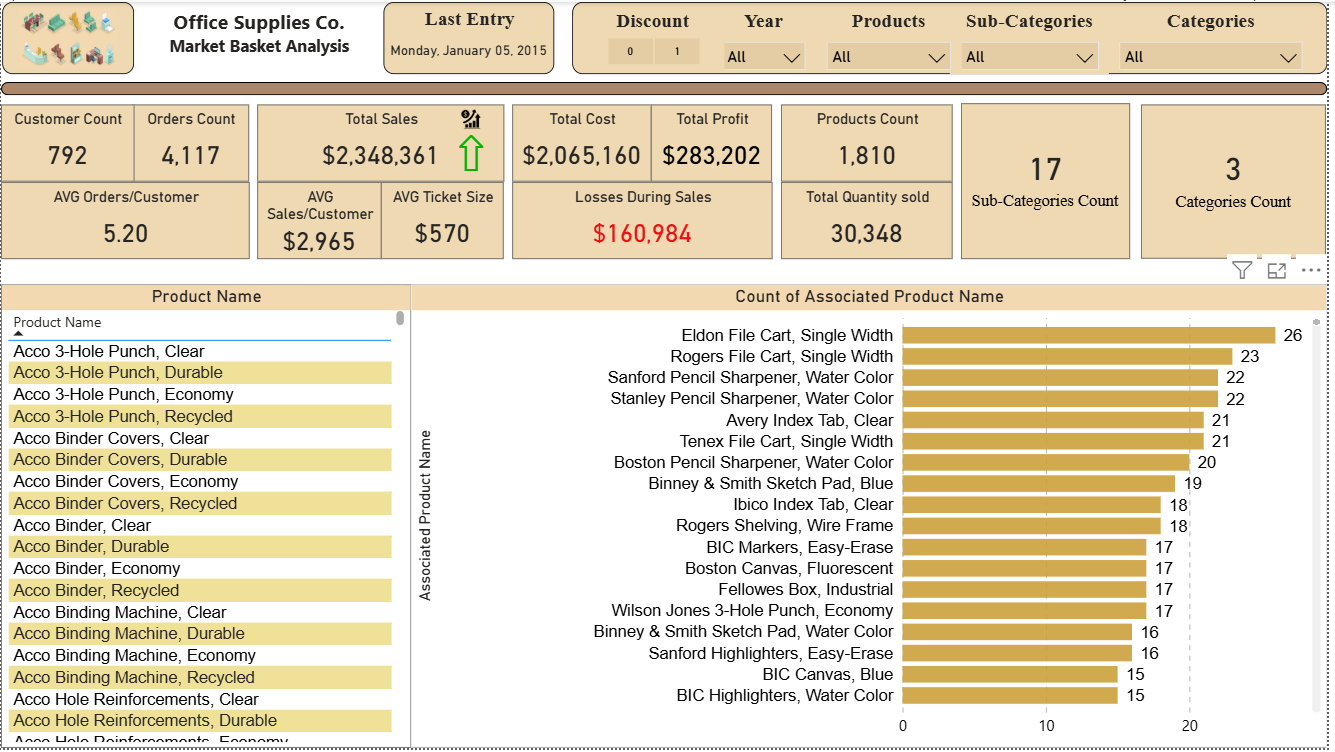

The page's visual inventory and layout, read from the dashboard file:
{"tool":"powerbi","page":{"name":"14. Market Basket Analysis (Bonus)","canvas":[1280,720],"ordinal":14},"visuals":[{"type":"card","title":"Last Entry","fields":{"Values":["Max(Dim_Date.Dim_Date)"]},"box":[369.6,0,165.1,69.9],"z":0},{"type":"shape","box":[551.2,0,729,69.9],"z":1000},{"type":"slicer","title":"Year","fields":{"Values":["Dim_Date.Dim_Date.Variation.Date Hierarchy.Year"]},"box":[685.7,2.9,101.4,65.7],"z":2000},{"type":"slicer","title":"Categories","fields":{"Values":["Dim_Category.Category"]},"box":[1069.3,2,197.3,65.1],"z":3000},{"type":"image","box":[1.3,0,127,69.9],"z":4000},{"type":"textbox","box":[137.2,0,223.5,68.6],"z":5000},{"type":"card","title":"Total Sales","fields":{"Values":["_Key Measure.Total Sales"]},"box":[247.1,99,238.6,74.3],"z":6000},{"type":"card","title":"Total Profit","fields":{"Values":["_Key Measure.Total Profit"]},"box":[627.1,99,117.1,74.3],"z":7000},{"type":"card","title":"Total Cost","fields":{"Values":["_Key Measure.Total Cost"]},"box":[492.9,99,134.3,74.3],"z":8000},{"type":"card","title":"Orders Count","fields":{"Values":["_Key Measure.Orders Count"]},"box":[127.1,99,112.9,74.3],"z":9000},{"type":"card","title":"Customer Count","fields":{"Values":["_Key Measure.Customer Count"]},"box":[0,99,128.6,74.3],"z":10000},{"type":"card","title":"Products Count","fields":{"Values":["_Key Measure.Products Count"]},"box":[752.9,99,165.7,74.3],"z":11000},{"type":"slicer","title":"Sub-Categories","fields":{"Values":["Dim_Sub-Category.Sub-Category"]},"box":[915.4,2,153.9,67.1],"z":12000},{"type":"card","fields":{"Values":["_Key Measure.Categories Count"]},"box":[1100,99,178.6,148.6],"z":13000},{"type":"card","fields":{"Values":["_Key Measure.Sub-Categories Count"]},"box":[927.1,97.6,162.9,150],"z":14000},{"type":"shape","box":[0,77.1,1280,12.9],"z":15000},{"type":"card","title":"AVG Orders/Customer","fields":{"Values":["_Key Measure.AVG Order/Customer"]},"box":[0,173.3,240,74.3],"z":16000},{"type":"card","title":"AVG Ticket Size","fields":{"Values":["_Key Measure.AVG Ticket Size"]},"box":[367.1,173.3,118.6,74.3],"z":17000},{"type":"card","title":"AVG Sales/Customer","fields":{"Values":["_Key Measure.AVG Sales/Customer"]},"box":[247.1,173.3,120,74.3],"z":18000},{"type":"card","title":"Losses During Sales","fields":{"Values":["_Key Measure.Lost Profit"]},"box":[492.9,173.3,251.4,74.3],"z":19000},{"type":"card","title":"Total Quantity sold","fields":{"Values":["_Key Measure.Total Quantity sold"]},"box":[752.9,173.3,165.7,74.3],"z":20000},{"type":"card","fields":{"Values":["_Key Measure.Sales Arrow"]},"box":[427.1,111.4,54.3,61.4],"z":21000},{"type":"image","box":[425.7,98.6,55.7,28.6],"z":22000},{"type":"slicer","title":"Discount","fields":{"Values":["Fact_Order Details.Discount"]},"box":[560,2.9,138.6,64.3],"z":23000},{"type":"tableEx","title":"Product Name","fields":{"Values":["Fact_Order Details.Product Name"]},"box":[0,272.7,395.7,447.6],"z":24000},{"type":"barChart","title":"Count of Associated Product Name","fields":{"Category":["Market Basket.Product Name"],"Y":["CountNonNull(Market Basket.Product Name)"]},"box":[395.7,272.7,884.3,447.6],"z":25000},{"type":"slicer","title":"Products","fields":{"Values":["Dim_Product.Product Name"]},"box":[787.2,2,140.1,65.1],"z":26000}]}

Visuals, with their boxes in screenshot pixels (x1, y1, x2, y2), scaled from the page's 1280x720 canvas onto the 1335x752 screenshot:
"Last Entry" card: 385 0 558 73
shape: 575 0 1334 73
"Year" slicer: 715 3 821 72
"Categories" slicer: 1115 2 1321 70
image: 1 0 134 73
textbox: 143 0 376 72
"Total Sales" card: 258 103 507 181
"Total Profit" card: 654 103 776 181
"Total Cost" card: 514 103 654 181
"Orders Count" card: 133 103 250 181
"Customer Count" card: 0 103 134 181
"Products Count" card: 785 103 958 181
"Sub-Categories" slicer: 955 2 1115 72
card - _Key Measure.Categories Count: 1147 103 1334 259
card - _Key Measure.Sub-Categories Count: 967 102 1137 259
shape: 0 81 1334 94
"AVG Orders/Customer" card: 0 181 250 259
"AVG Ticket Size" card: 383 181 507 259
"AVG Sales/Customer" card: 258 181 383 259
"Losses During Sales" card: 514 181 776 259
"Total Quantity sold" card: 785 181 958 259
card - _Key Measure.Sales Arrow: 445 116 502 180
image: 444 103 502 133
"Discount" slicer: 584 3 729 70
"Product Name" tableEx: 0 285 413 751
"Count of Associated Product Name" barChart: 413 285 1334 751
"Products" slicer: 821 2 967 70
